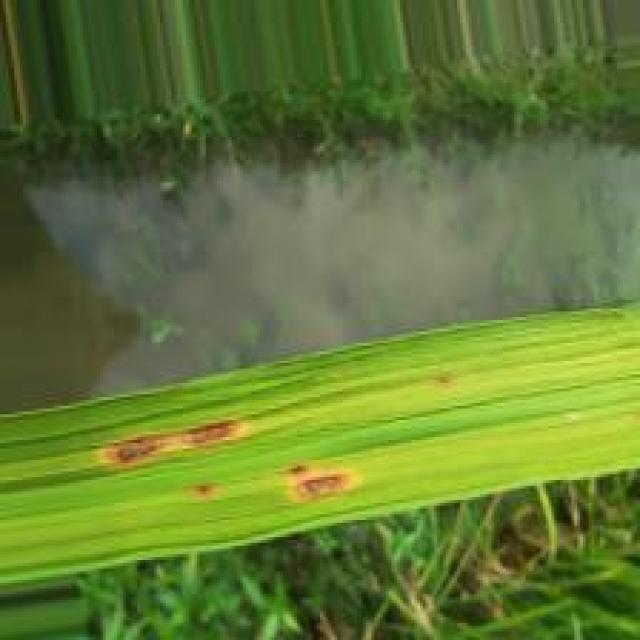Narrow_Brown_Leaf_Spot: (82, 415, 267, 483), (276, 456, 368, 515), (186, 482, 217, 502), (432, 370, 456, 387)
